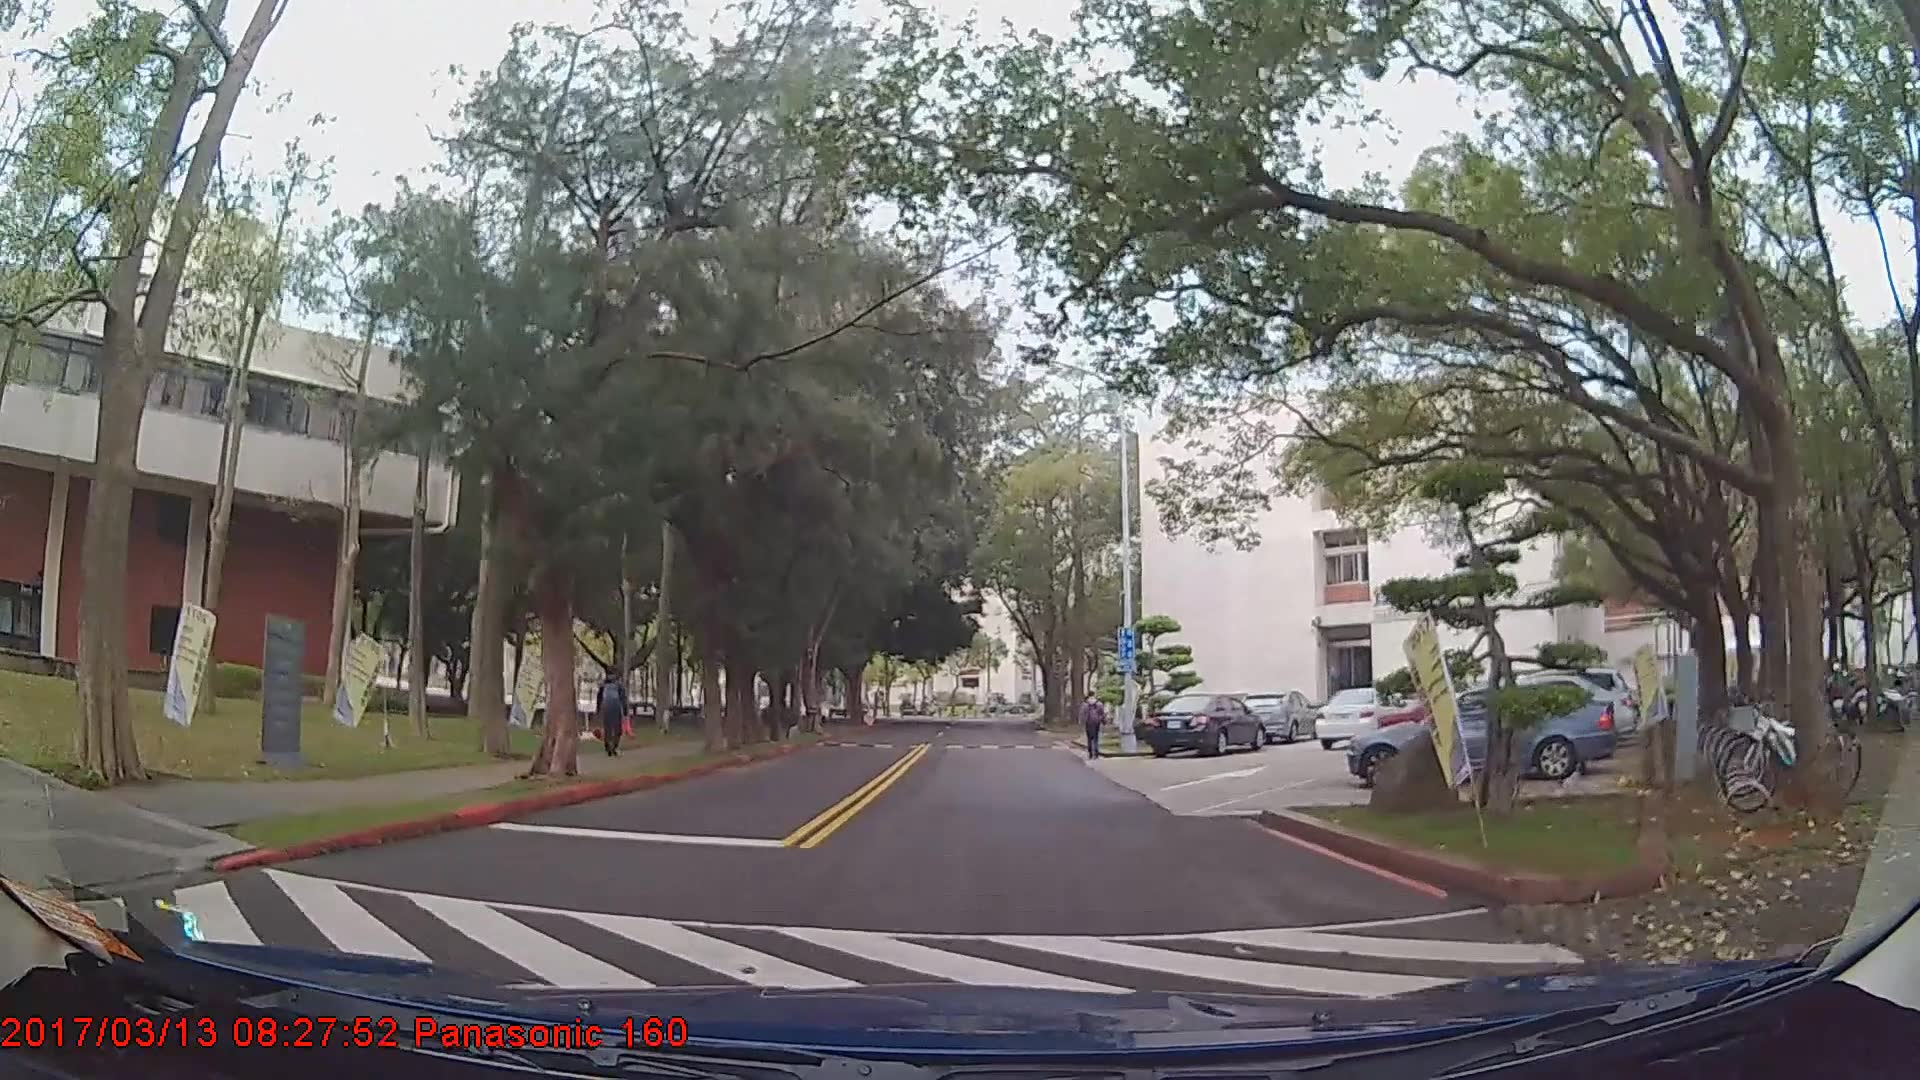pedestrian: (597, 668, 629, 759), (1082, 693, 1110, 765)
vehicle: (1347, 681, 1617, 789), (1142, 691, 1268, 756), (1317, 684, 1406, 747), (1241, 690, 1323, 743)
